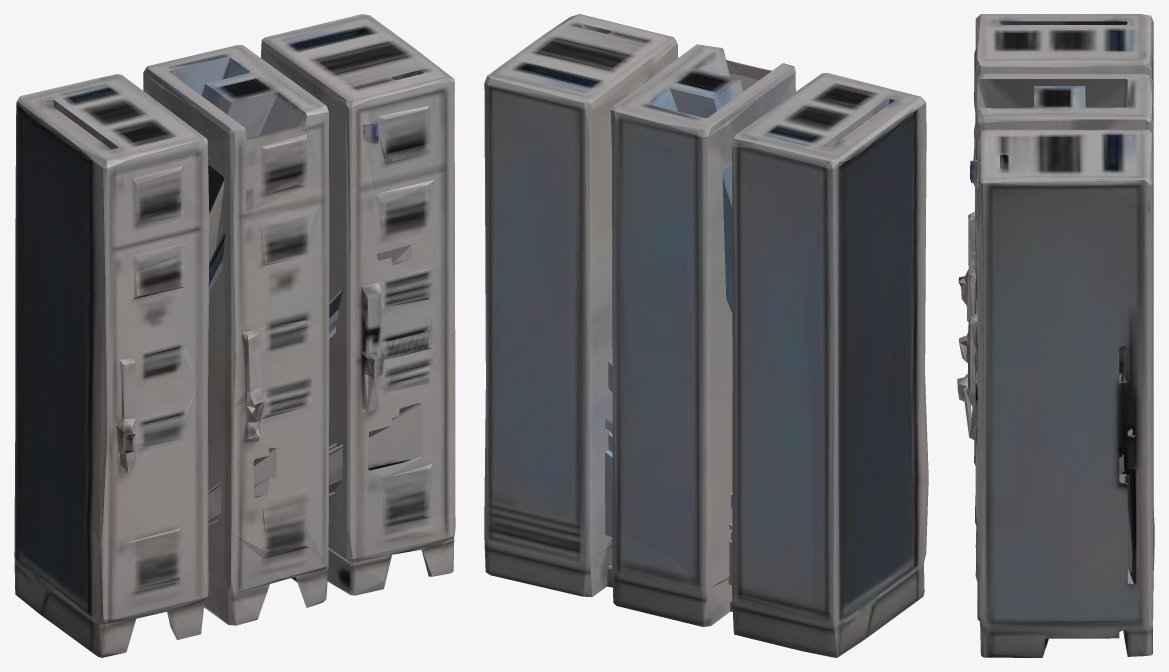
The model's file is gym_lockers.glb.
The picture shows the model from 3 angles, left to right: view 1: azimuth 30°, elevation 25°; view 2: azimuth 150°, elevation 25°; view 3: azimuth 270°, elevation 25°; orthographic projection. The views are drawn at different scales.
Parts seen in each view (by area): view 1: textured_mesh.obj; view 2: textured_mesh.obj; view 3: textured_mesh.obj.
Part boxes in pixels (x1,y1,x2,y2): textured_mesh.obj: [14, 14, 455, 657]; textured_mesh.obj: [484, 14, 928, 657]; textured_mesh.obj: [957, 14, 1154, 657].
Size of the model in its own units: 1.5 by 2 by 0.7438.
1 material, 1 textured.
